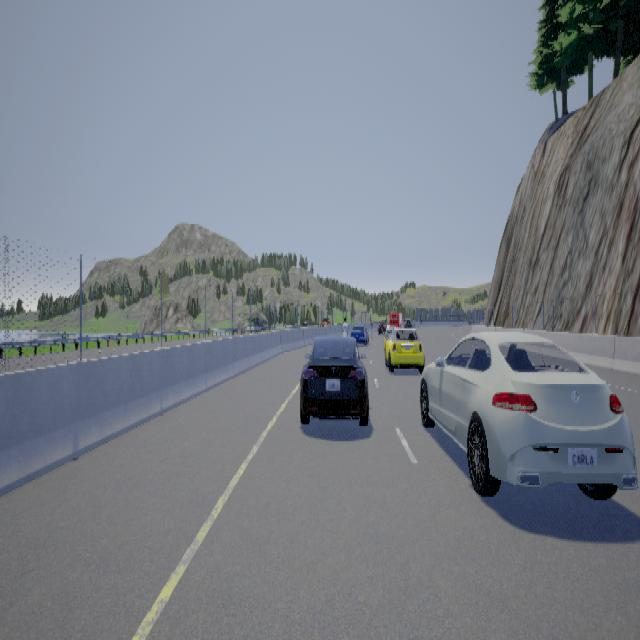vehicle: (419, 312, 638, 498), (299, 324, 368, 424), (383, 320, 425, 374)
